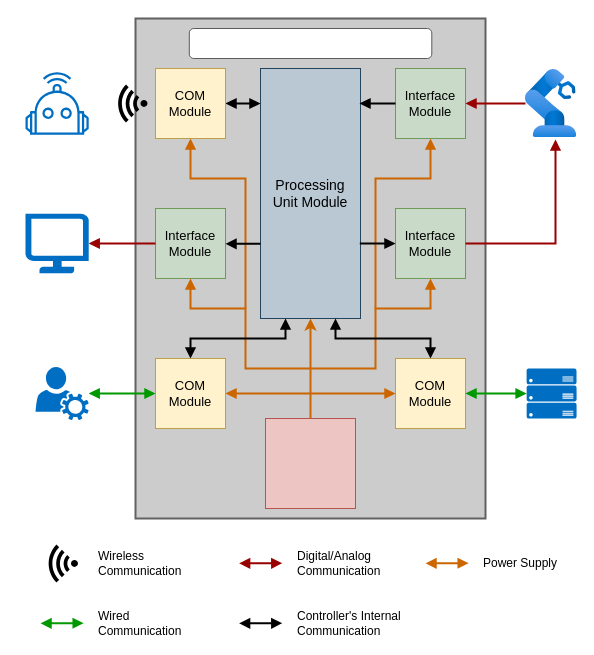
Image size: 594x655. Some labels were removed from this diagram. Here are the shapes that lost their labels. From the top down, the centre of each, then its label:
the point at 310,43: Proposed Modular Controller
the point at 310,463: Power Supply Module
